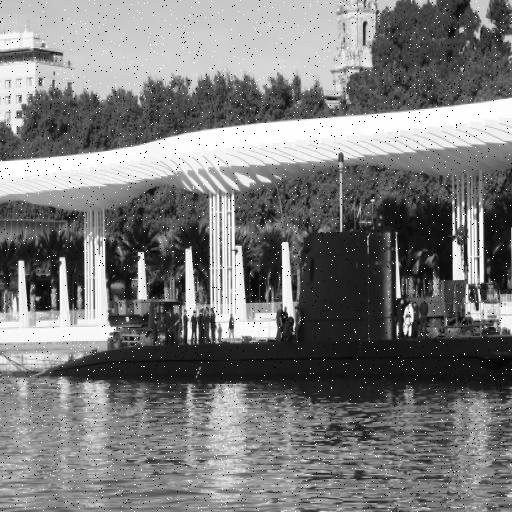submarine: (32, 205, 512, 380)
